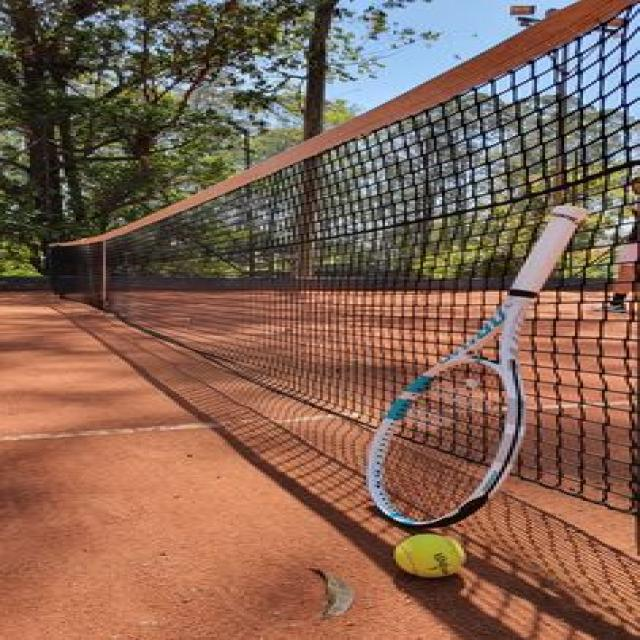tennis: (378, 525, 478, 578)
